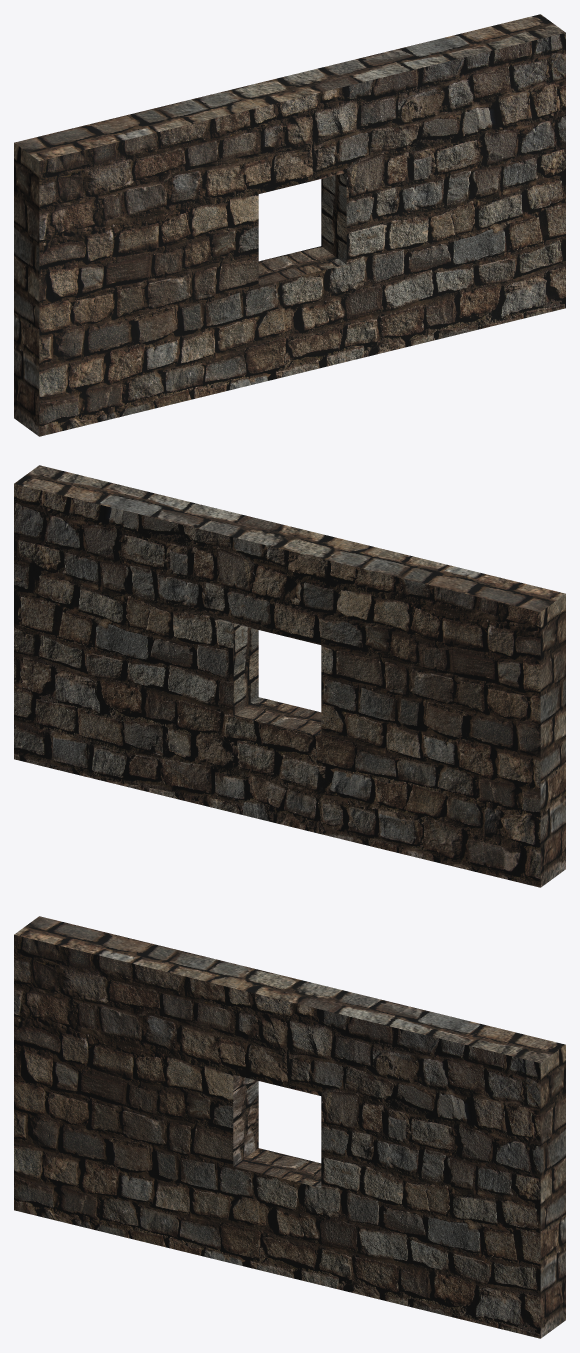
The model's file is WallCastleWithWindow.fbx.
The picture shows the model from 3 angles, top to bottom: view 1: azimuth 30°, elevation 25°; view 2: azimuth 150°, elevation 25°; view 3: azimuth 330°, elevation 25°; orthographic projection.
Visible parts, largest first — view 1: CastleWallWithWindow; view 2: CastleWallWithWindow; view 3: CastleWallWithWindow.
Part boxes in pixels (left/top/right/bottom): CastleWallWithWindow: left=14, top=14, right=565, bottom=436; CastleWallWithWindow: left=14, top=465, right=565, bottom=887; CastleWallWithWindow: left=14, top=916, right=565, bottom=1338.
Bounding box in the file's own units: 600 × 300 × 50.
1 material, 1 textured.
